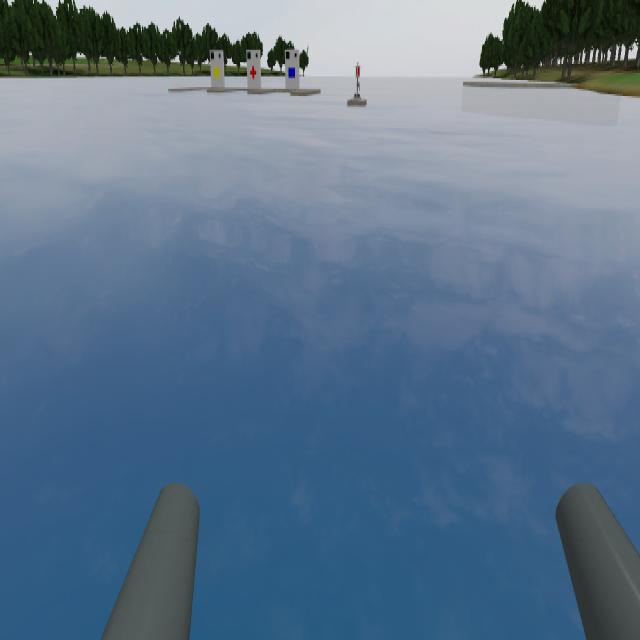red_pole: (351, 56, 367, 82)
